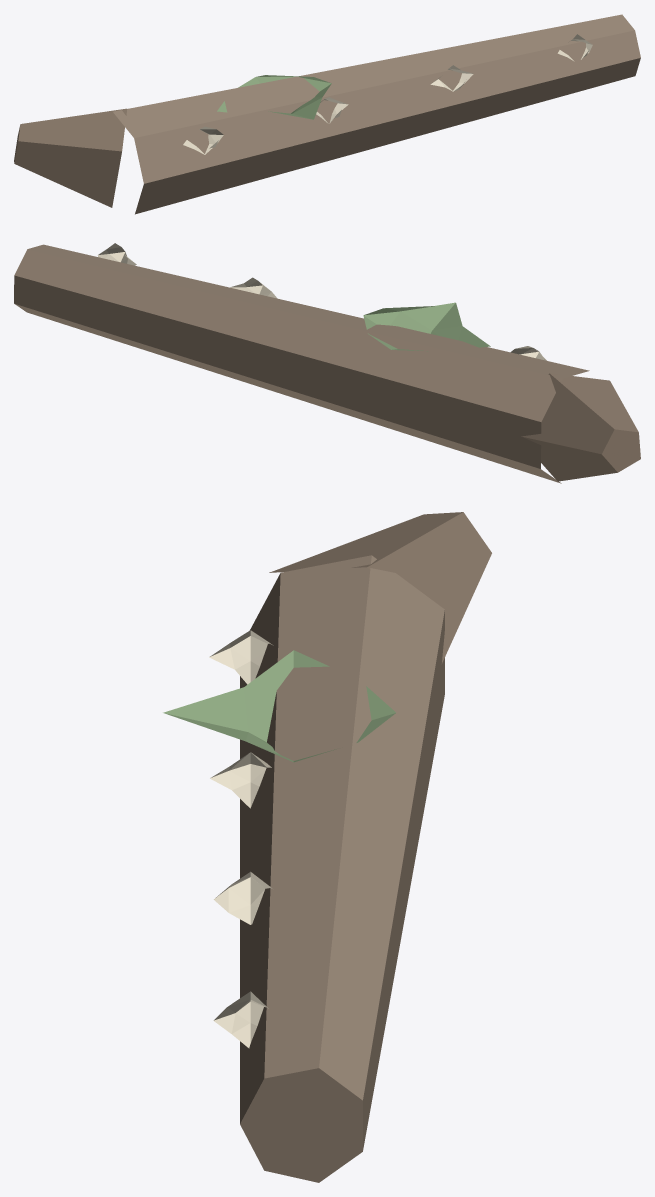
The model's file is log_v23.glb.
3 views of the same model, one above another, from view 1: azimuth 30°, elevation 25°; view 2: azimuth 150°, elevation 25°; view 3: azimuth 270°, elevation 25° (orthographic). The views are drawn at different scales.
Visible parts, largest first — view 1: lod0; view 2: lod0; view 3: lod0.
Part boxes in pixels (left/top/right/bottom): lod0: left=14, top=14, right=640, bottom=214; lod0: left=14, top=243, right=640, bottom=483; lod0: left=163, top=512, right=491, bottom=1182.
Size of what is drawn, in the model's own units: 3.98 by 0.7038 by 0.9774.
